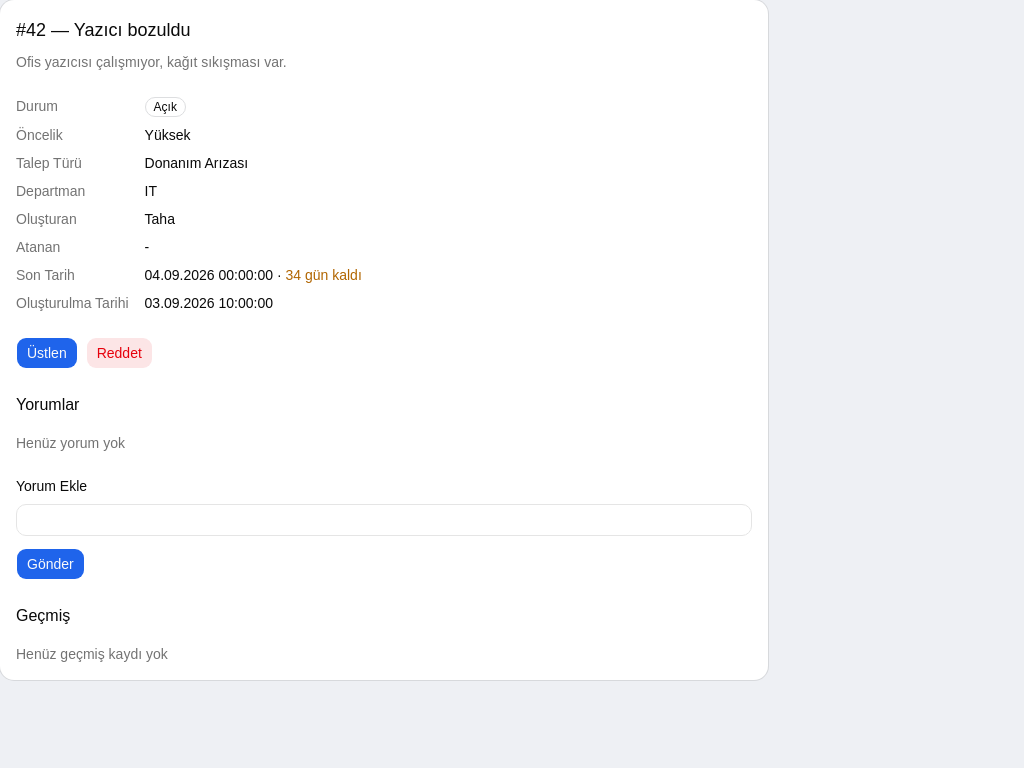
RequestDetail page › claim action (AC1) › shows "Üstlen" for a DEPARTMENT_AUTHORITY of the request's department on an OPEN request, and claiming it invalidates and refetches the request
Click the button "Üstlen". click: (47, 353)
box: [16, 337, 78, 369]
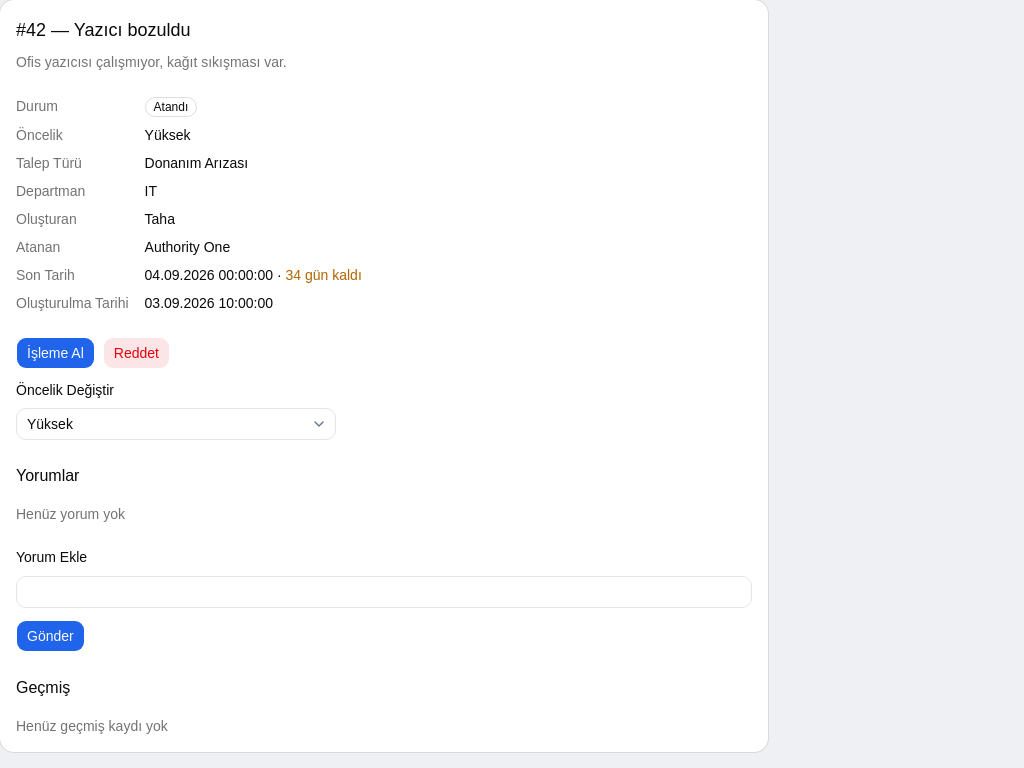
Check: the button "Üstlen" is gone
